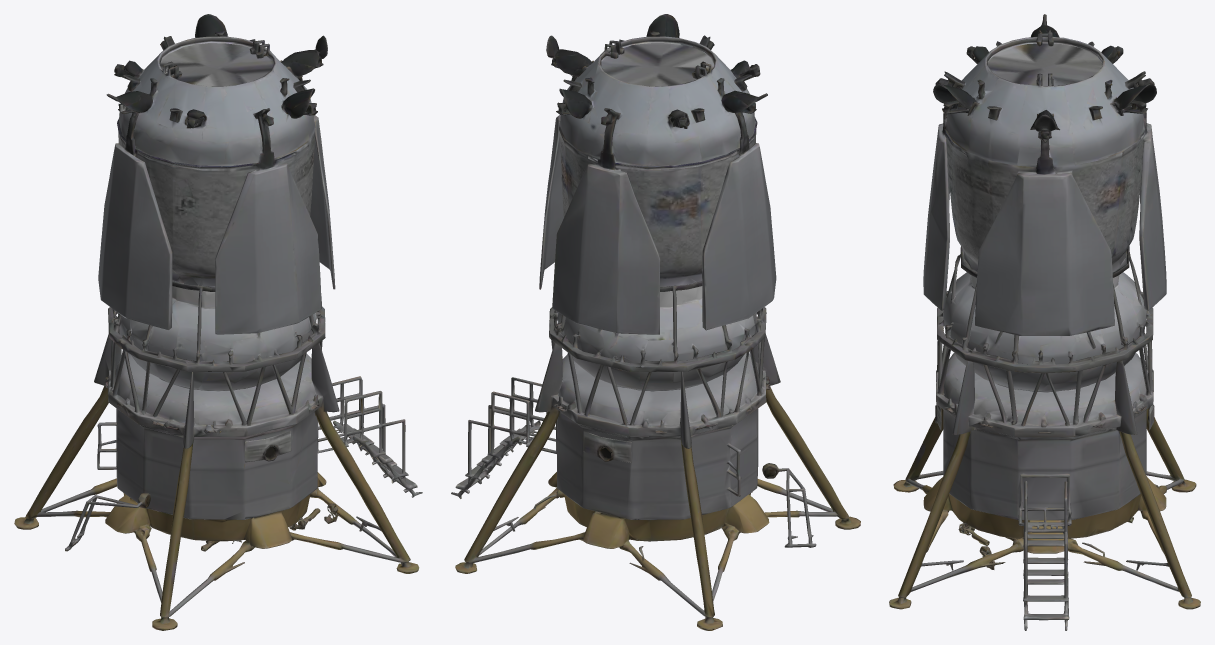
Rendered from blue_moon_mk2.glb.
3 renders of one model, left to right at view 1: azimuth 30°, elevation 25°; view 2: azimuth 150°, elevation 25°; view 3: azimuth 270°, elevation 25°, orthographic.
Visible parts, largest first — view 1: world; view 2: world; view 3: world.
Part boxes in pixels (x1,y1,x2,y2): world: [14, 14, 422, 630]; world: [451, 14, 860, 630]; world: [889, 14, 1200, 630].
Size of the model in its own units: 0.7473 by 0.9998 by 0.5734.
Materials: 1 (1 with a texture image).
